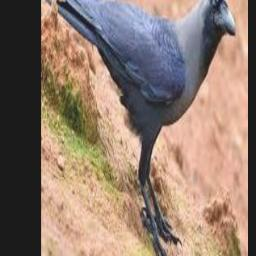Crow: (42, 0, 235, 256)
